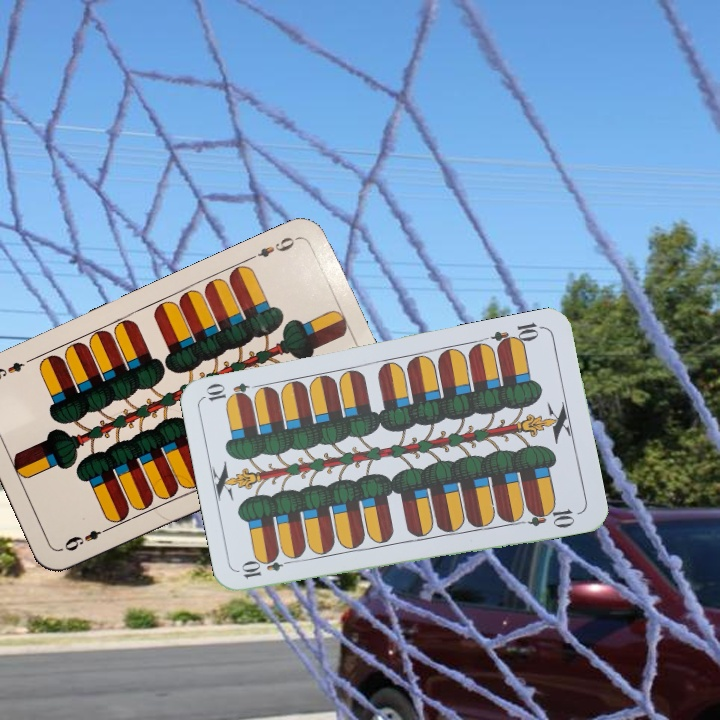E10: (488, 318, 547, 352), (237, 554, 297, 581)
E9: (245, 232, 301, 263), (60, 522, 114, 554)
